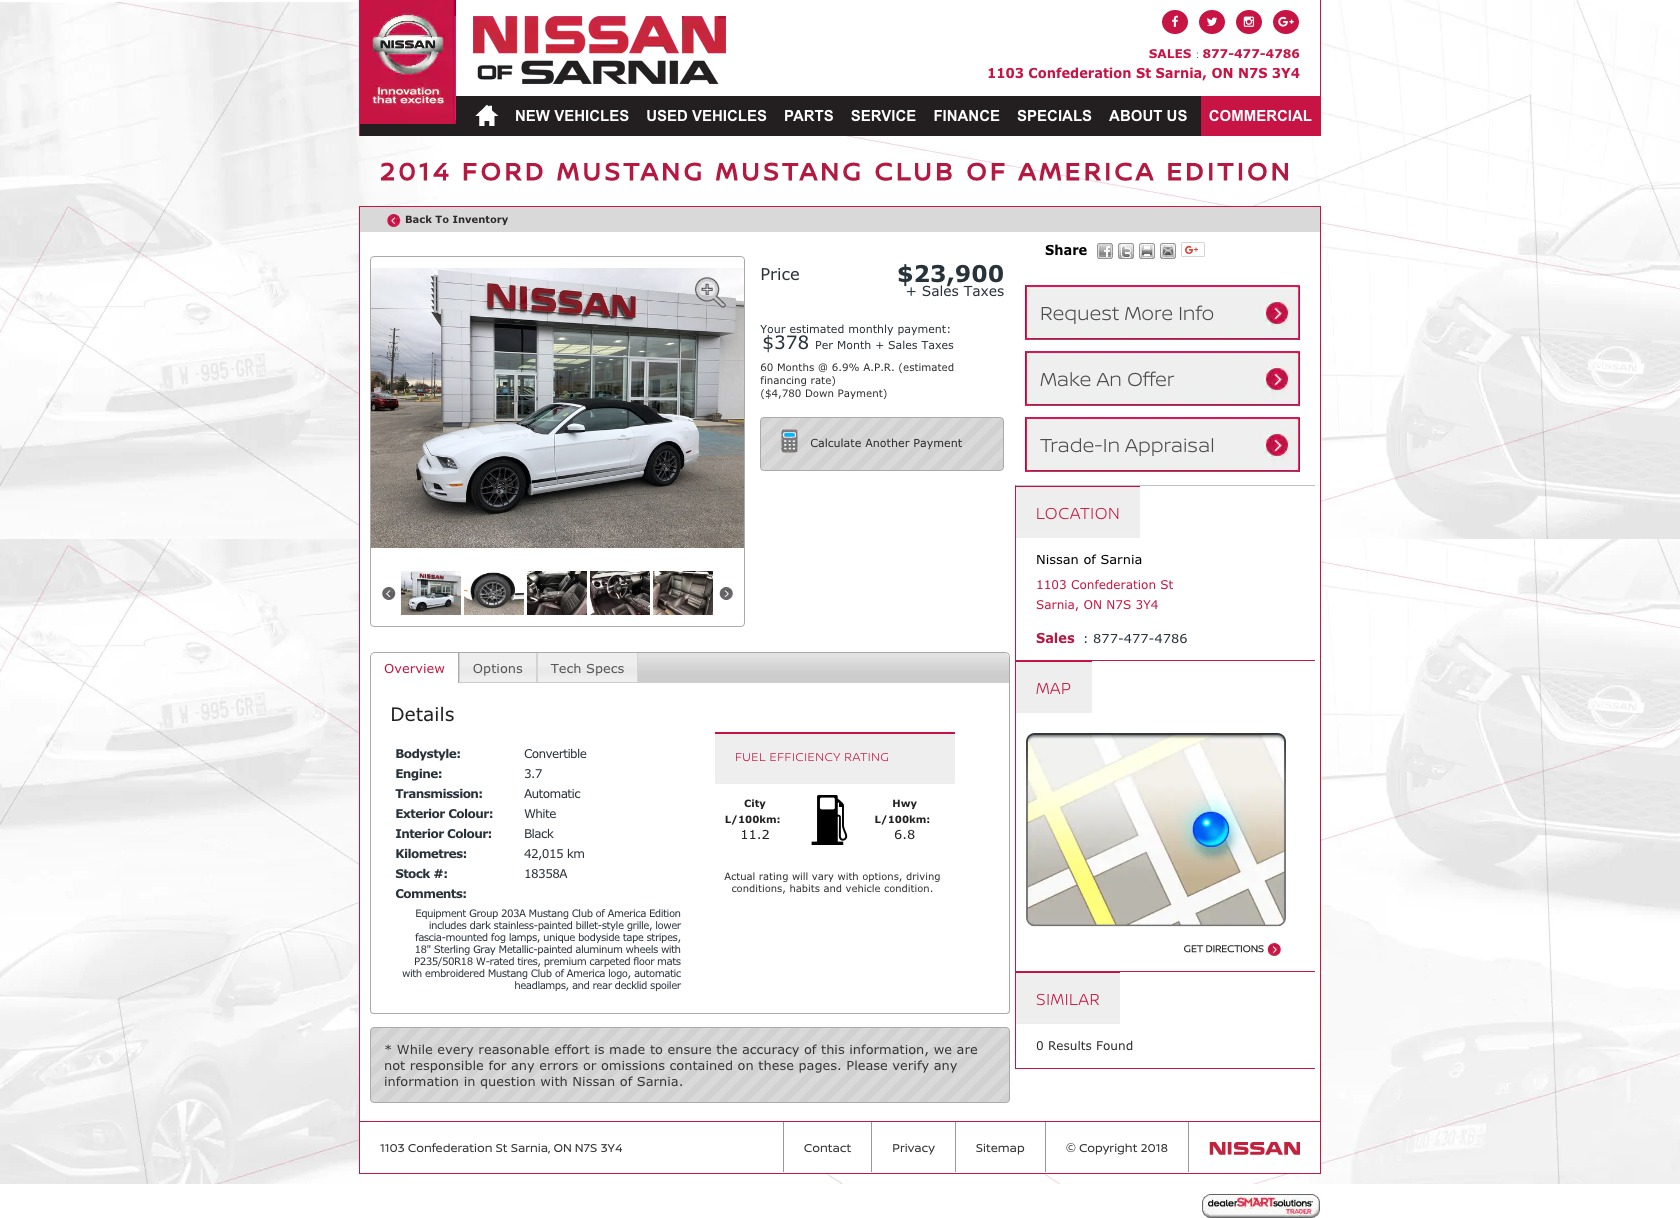car: (720, 587, 736, 601)
